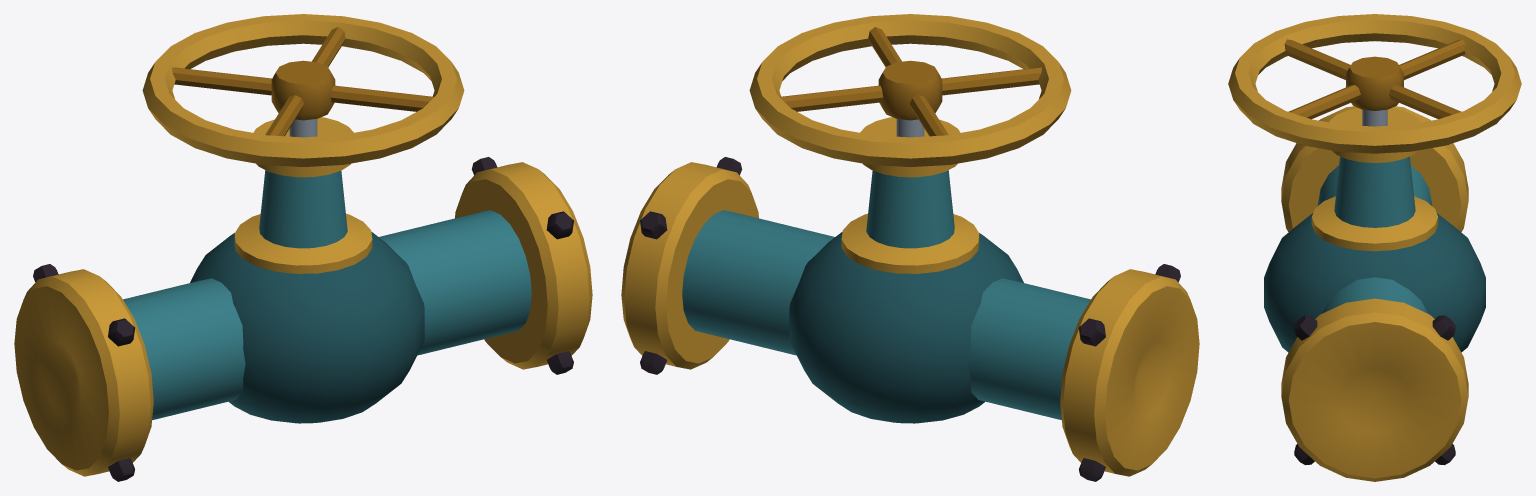
The model's file is Valve_03.glb.
3 renders of one model, left to right at view 1: azimuth 30°, elevation 25°; view 2: azimuth 150°, elevation 25°; view 3: azimuth 270°, elevation 25°, orthographic. The views are drawn at different scales.
Visible parts, largest first — view 1: Valve_03; view 2: Valve_03; view 3: Valve_03.
Part boxes in pixels (x1,y1,x2,y2): Valve_03: [14, 14, 592, 481]; Valve_03: [621, 14, 1199, 481]; Valve_03: [1228, 14, 1521, 481].
Size of the model in its own units: 2.8 by 1.88 by 1.62.
